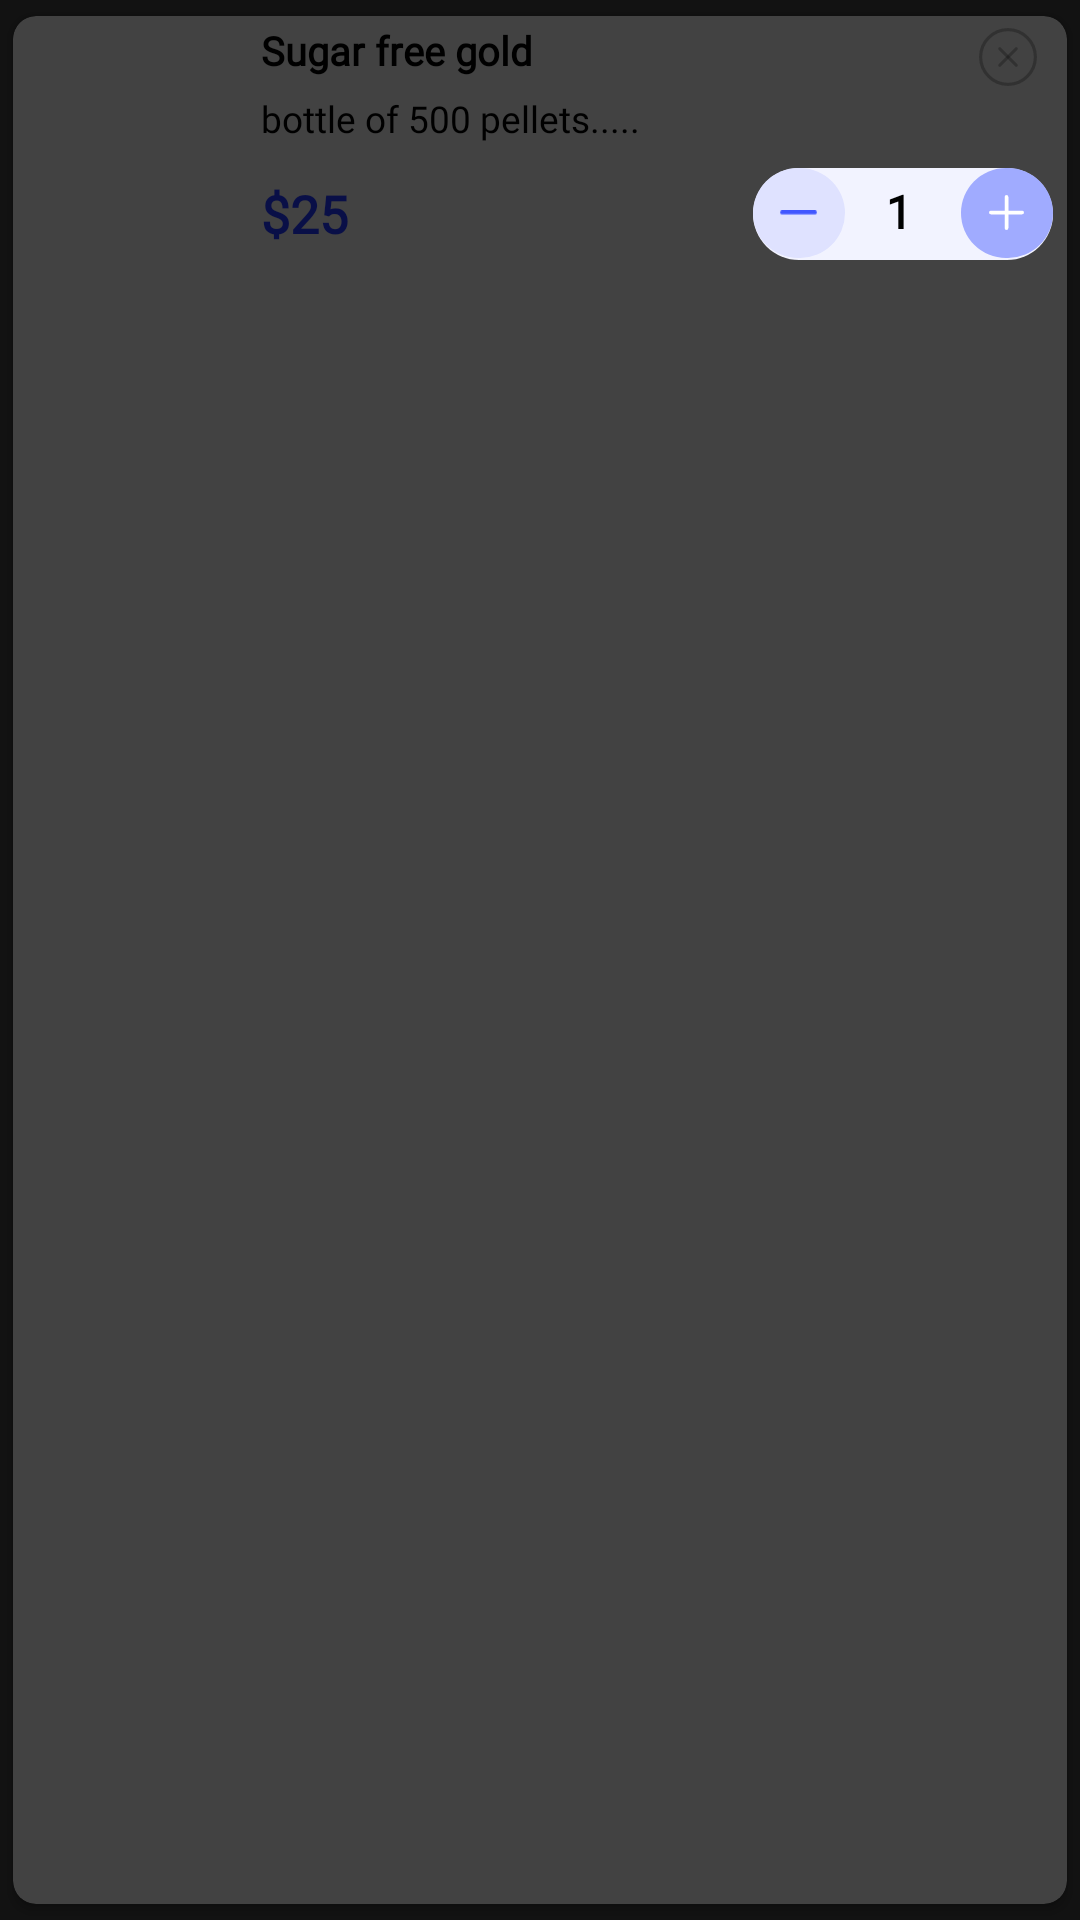

Icon click points for this 1080x1920 phone screenshot, format (x,y):
plus: (1006,212)
